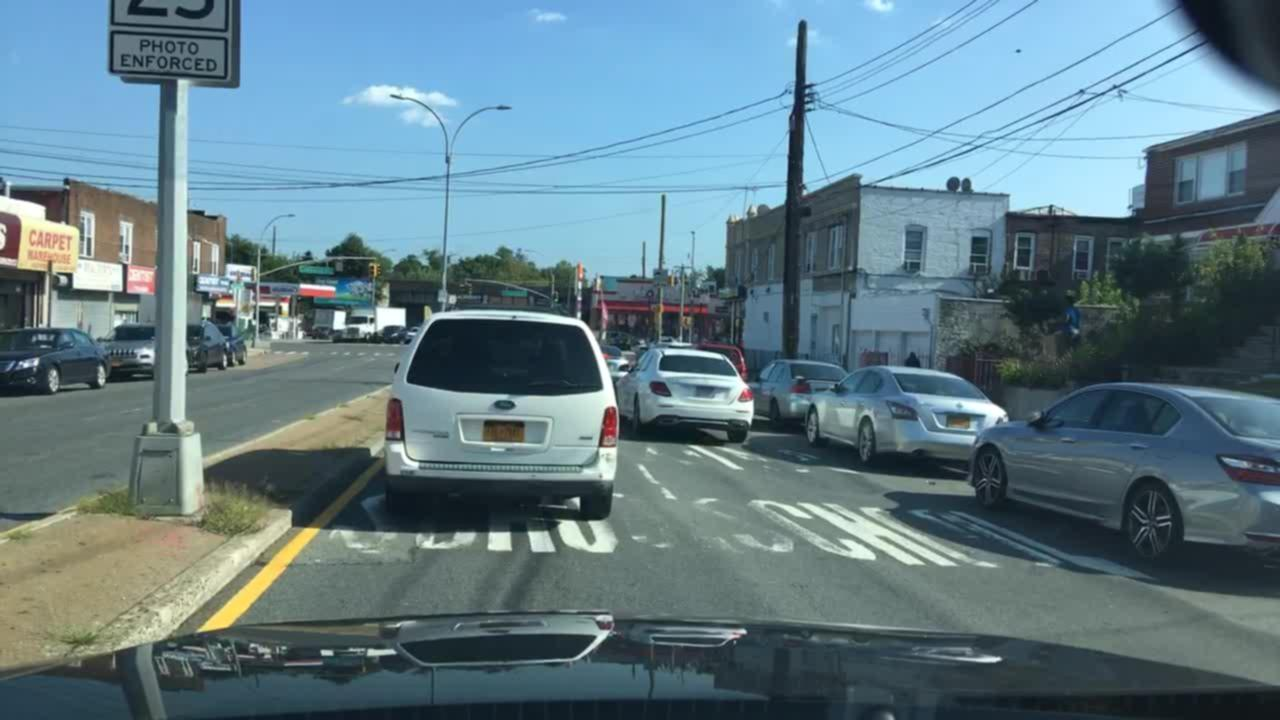ford: (489, 390, 523, 418)
